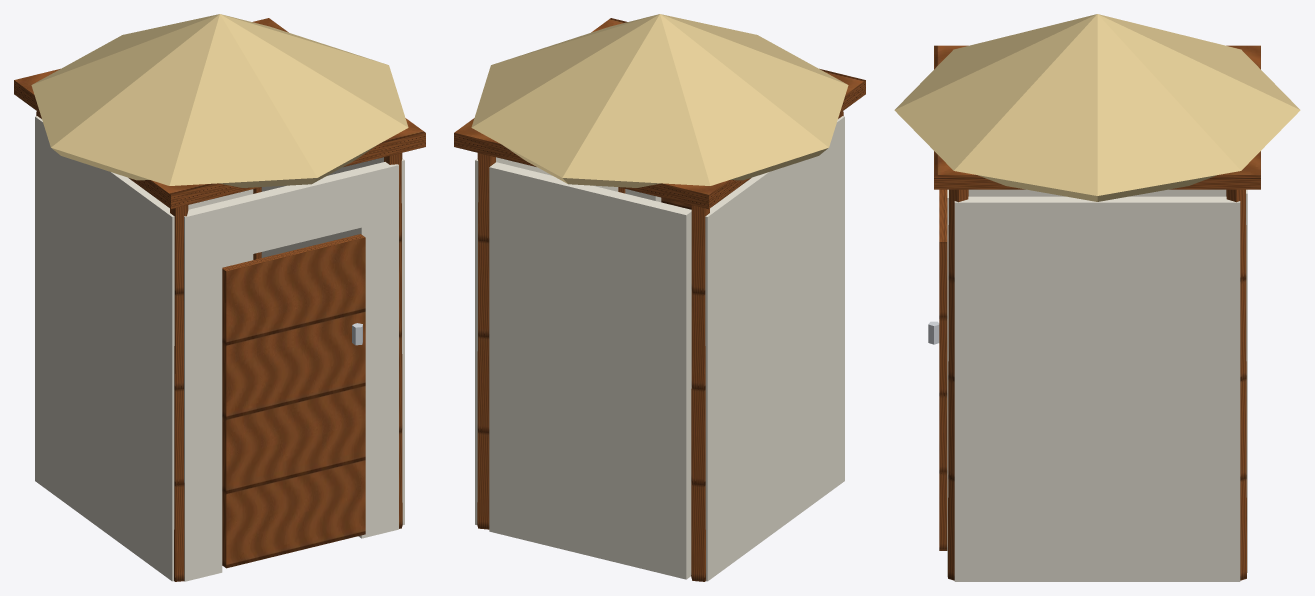
The model's file is safari-camp-and-bush-lodge-long-drop-hut-8537c47f__37673.glb.
3 renders of one model, left to right at view 1: azimuth 30°, elevation 25°; view 2: azimuth 150°, elevation 25°; view 3: azimuth 270°, elevation 25°, orthographic. The views are drawn at different scales.
Parts seen in each view (by area): view 1: long-drop-hut-canvas, long-drop-hut-thatch, door/timber, long-drop-hut-timber; view 2: long-drop-hut-canvas, long-drop-hut-thatch, long-drop-hut-timber; view 3: long-drop-hut-canvas, long-drop-hut-thatch, long-drop-hut-timber, door/timber.
Part boxes in pixels (bbox=[...]): long-drop-hut-canvas: bbox=[35, 116, 404, 581]; long-drop-hut-thatch: bbox=[31, 14, 408, 187]; door/timber: bbox=[222, 234, 365, 568]; long-drop-hut-timber: bbox=[14, 18, 425, 581]; long-drop-hut-canvas: bbox=[475, 116, 844, 581]; long-drop-hut-thatch: bbox=[471, 14, 848, 187]; long-drop-hut-timber: bbox=[454, 18, 865, 581]; long-drop-hut-canvas: bbox=[947, 189, 1247, 581]; long-drop-hut-thatch: bbox=[894, 14, 1300, 201]; long-drop-hut-timber: bbox=[934, 45, 1260, 580]; door/timber: bbox=[939, 189, 947, 550].
Bounding box in the file's own units: 1.99 × 2.75 × 1.99.
4 materials, 1 textured.
